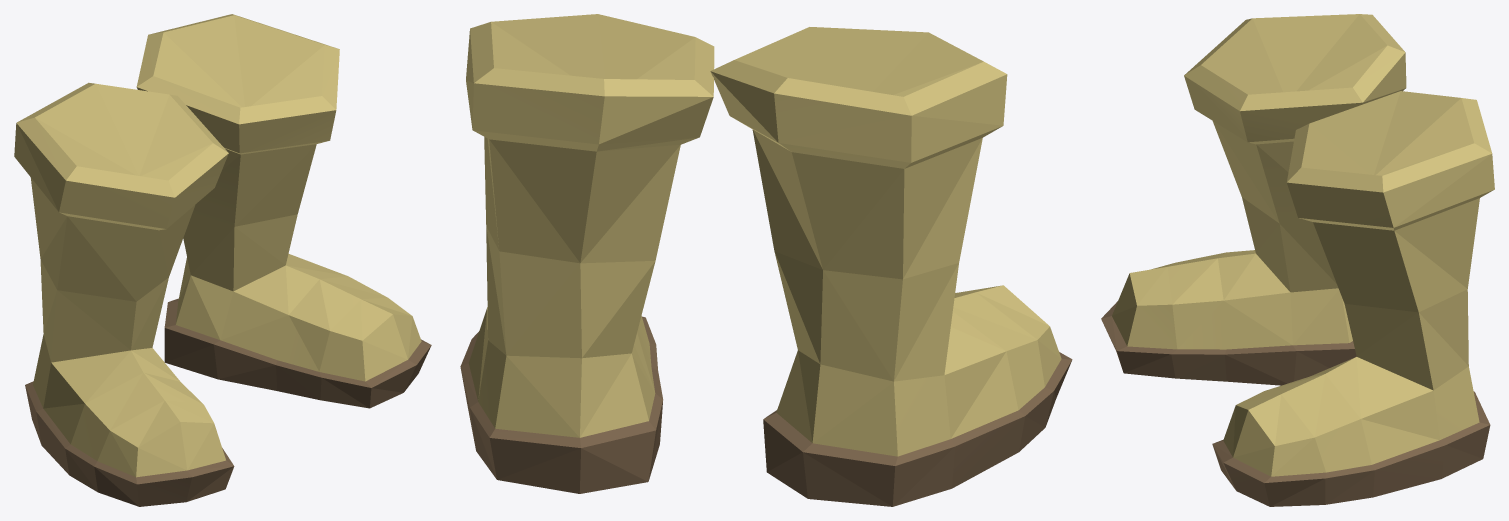
The model's file is bootsFishingDisplay.fbx.
3 views of the same model, side by side, from view 1: azimuth 30°, elevation 25°; view 2: azimuth 150°, elevation 25°; view 3: azimuth 270°, elevation 25° (orthographic). The views are drawn at different scales.
Parts seen in each view (by area): view 1: bootsFishingDisplay; view 2: bootsFishingDisplay; view 3: bootsFishingDisplay.
Part boxes in pixels (<box>): bootsFishingDisplay: <box>14,14,431,506</box>; bootsFishingDisplay: <box>460,14,1072,506</box>; bootsFishingDisplay: <box>1101,14,1494,506</box>.
Bounding box in the file's own units: 1.41 × 1.11 × 1.21.
1 material, 1 textured.
